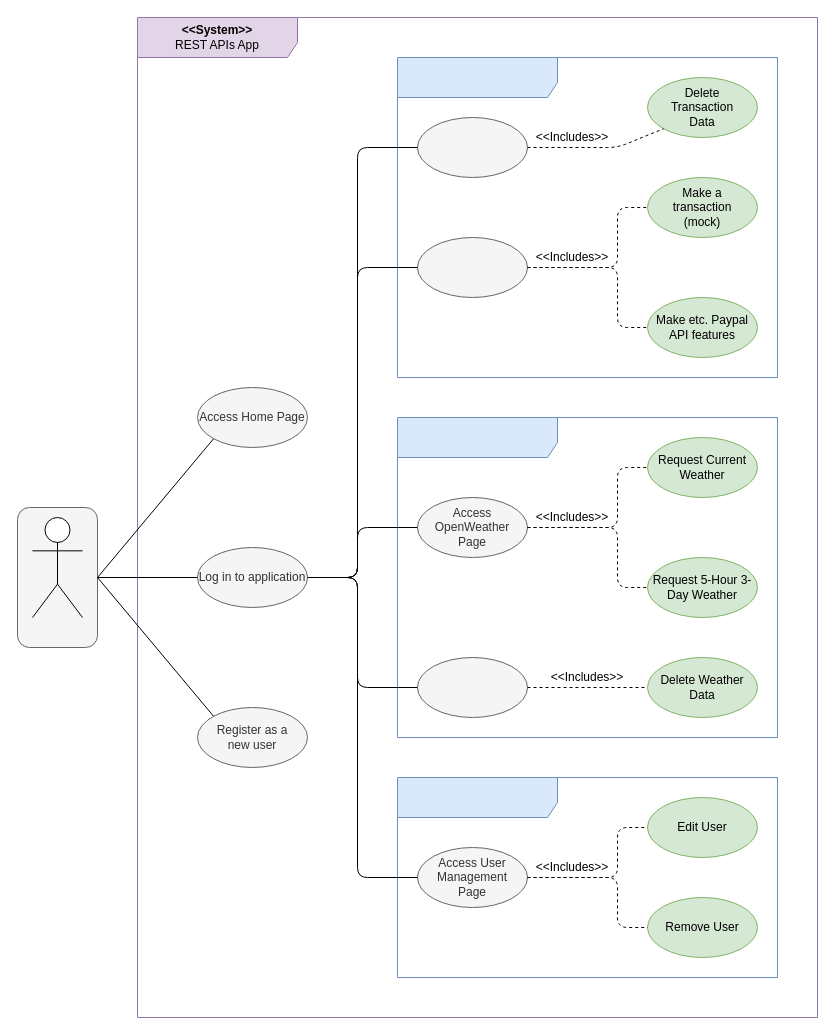
This 835x1035 diagram has some shape labels left out. The shapes that lost their labels are listed below. From the top down, each one's box as (x1, y1, x2, y2) in pixels, then its label:
(416, 116, 528, 178): View Transaction Data
(396, 56, 778, 378): <<Subsystem>> PayPal
(416, 236, 528, 298): Access PayPal Page
(32, 516, 82, 618): Admin
(396, 416, 778, 738): <<Subsystem>> OpenWeather
(416, 656, 528, 718): View Weather Data (Table/s)
(396, 776, 778, 978): <<Subsystem>> User Management
